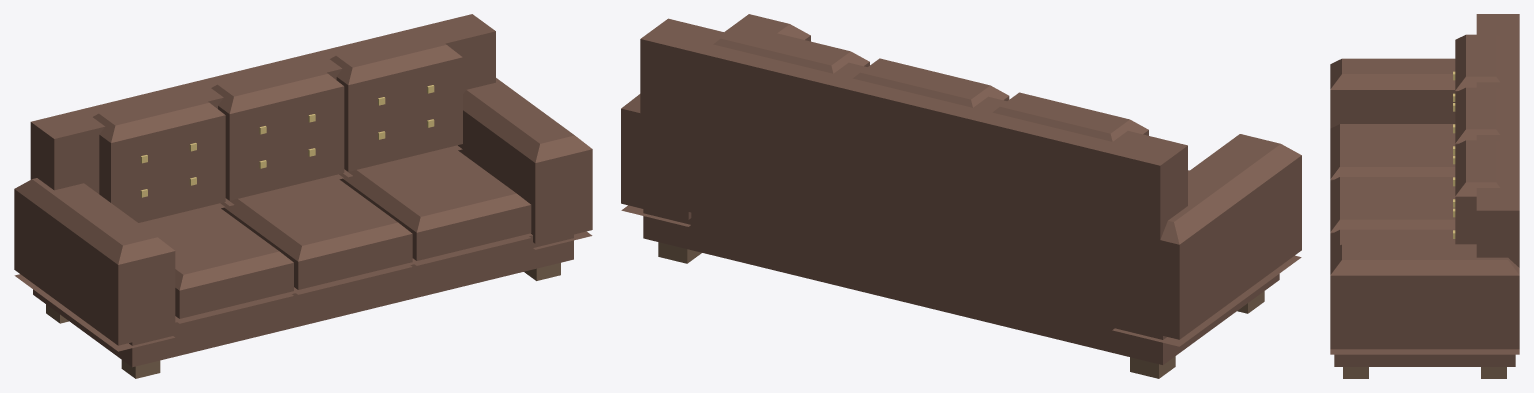
Rendered from sf_pro_dorm_lounge_set.glb.
3 views of the same model, side by side, from view 1: azimuth 30°, elevation 25°; view 2: azimuth 150°, elevation 25°; view 3: azimuth 270°, elevation 25° (orthographic). The views are drawn at different scales.
Visible parts, largest first — view 1: ProDormSofaPure3D_Root; view 2: ProDormSofaPure3D_Root; view 3: ProDormSofaPure3D_Root.
Boxes of the visible parts, <box> form: ProDormSofaPure3D_Root: <box>14,14,592,378</box>; ProDormSofaPure3D_Root: <box>621,14,1301,378</box>; ProDormSofaPure3D_Root: <box>1330,14,1519,378</box>.
Bounding box in the file's own units: 2.32 × 0.9 × 0.88.
